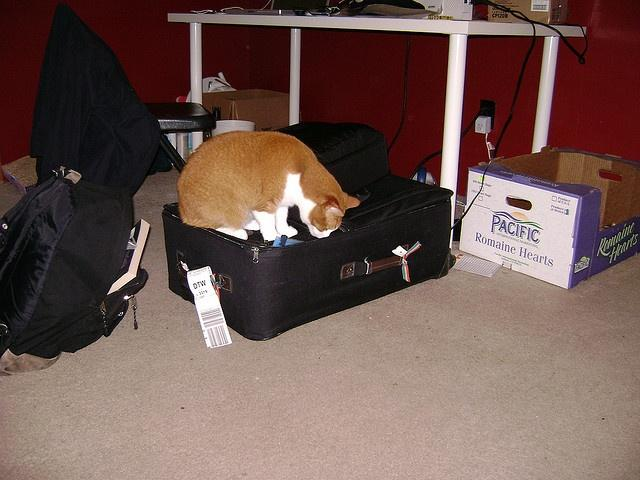Meja: (164, 11, 587, 103)
